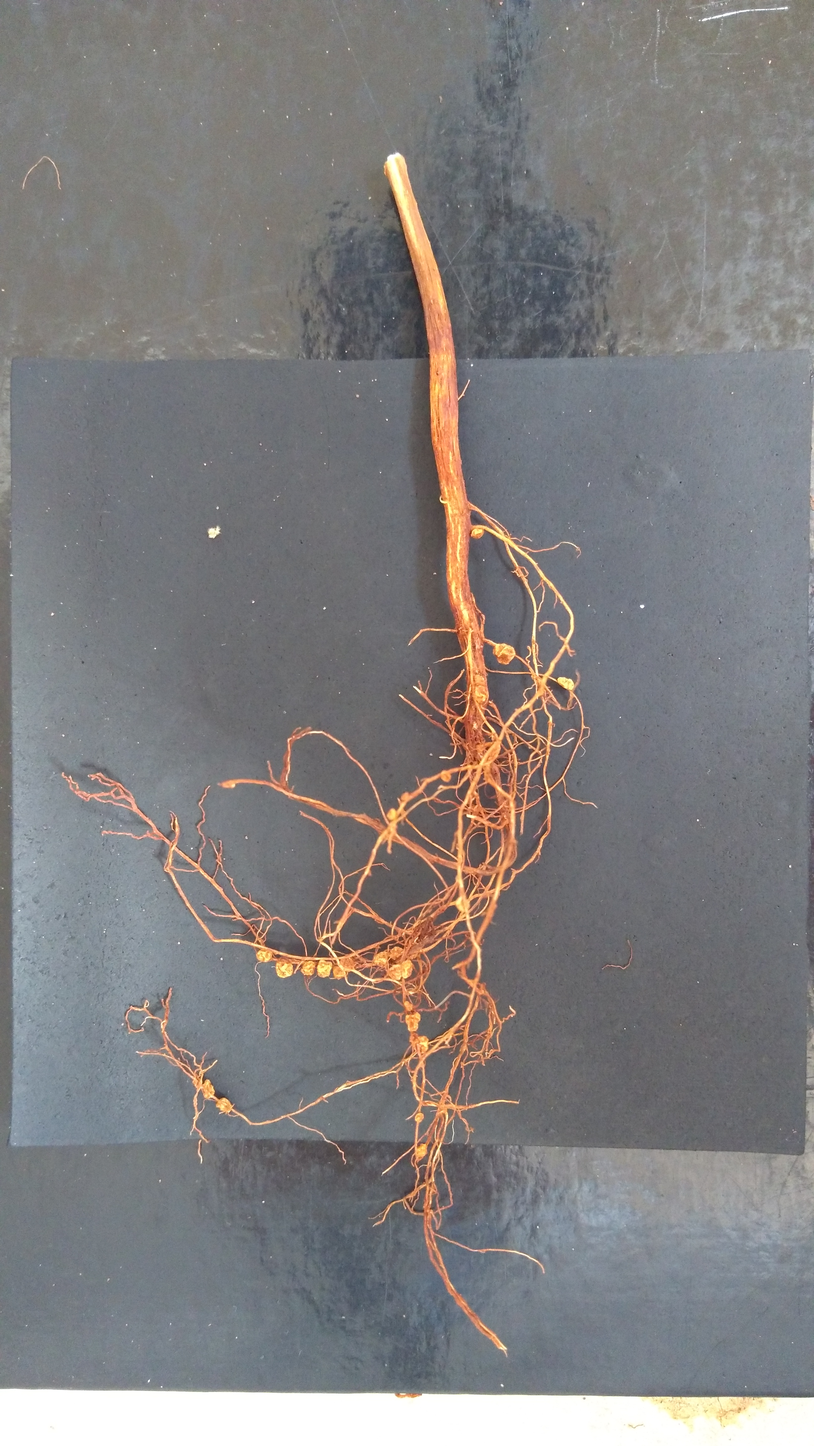nodule: (491, 642, 517, 666), (274, 959, 294, 980), (411, 1035, 430, 1055), (404, 1011, 422, 1032), (215, 1096, 235, 1114), (316, 959, 333, 980), (200, 1078, 216, 1100), (255, 947, 273, 964), (473, 685, 489, 704), (454, 896, 471, 913), (300, 960, 316, 978), (331, 965, 349, 981), (556, 676, 575, 691), (401, 958, 414, 979), (387, 963, 402, 981), (388, 946, 407, 960), (374, 951, 390, 966), (473, 673, 487, 689), (439, 769, 453, 783), (417, 1141, 428, 1158), (470, 528, 485, 540), (221, 779, 236, 790), (385, 807, 397, 820), (414, 1112, 425, 1124), (403, 1000, 414, 1011), (399, 790, 409, 801)
